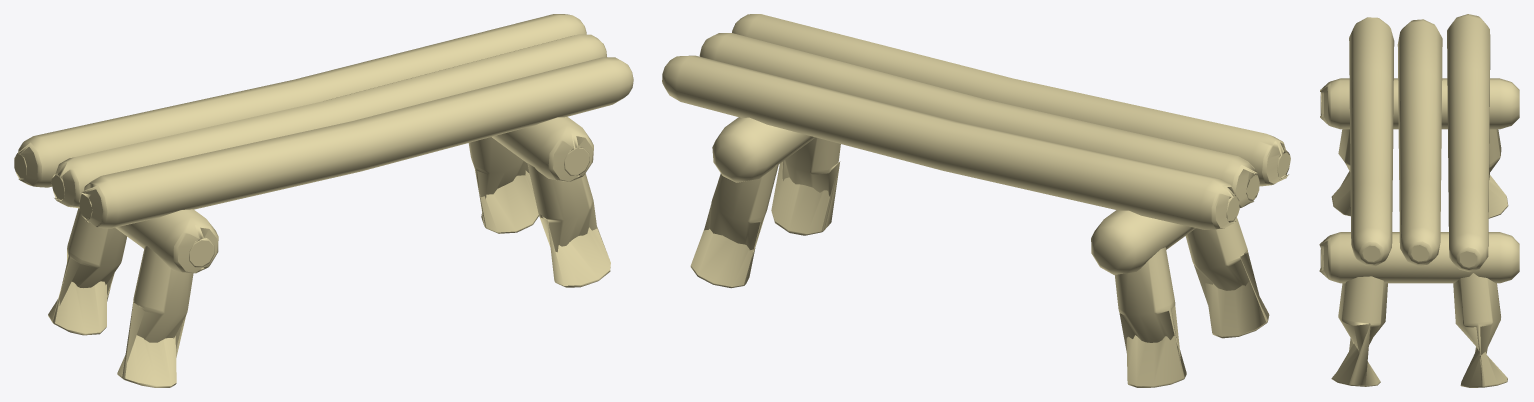
File: pt_bench_2.glb
3 views of the same model, side by side, from view 1: azimuth 30°, elevation 25°; view 2: azimuth 150°, elevation 25°; view 3: azimuth 270°, elevation 25° (orthographic). The views are drawn at different scales.
Parts seen in each view (by area): view 1: pt_bench_2_bamboo; view 2: pt_bench_2_bamboo; view 3: pt_bench_2_bamboo.
Part boxes in pixels (x1=…): pt_bench_2_bamboo: x1=14, y1=14, x2=633, y2=387; pt_bench_2_bamboo: x1=662, y1=14, x2=1290, y2=387; pt_bench_2_bamboo: x1=1319, y1=14, x2=1519, y2=387.
Size of the model in its own units: 1.39 by 0.4971 by 0.5116.
